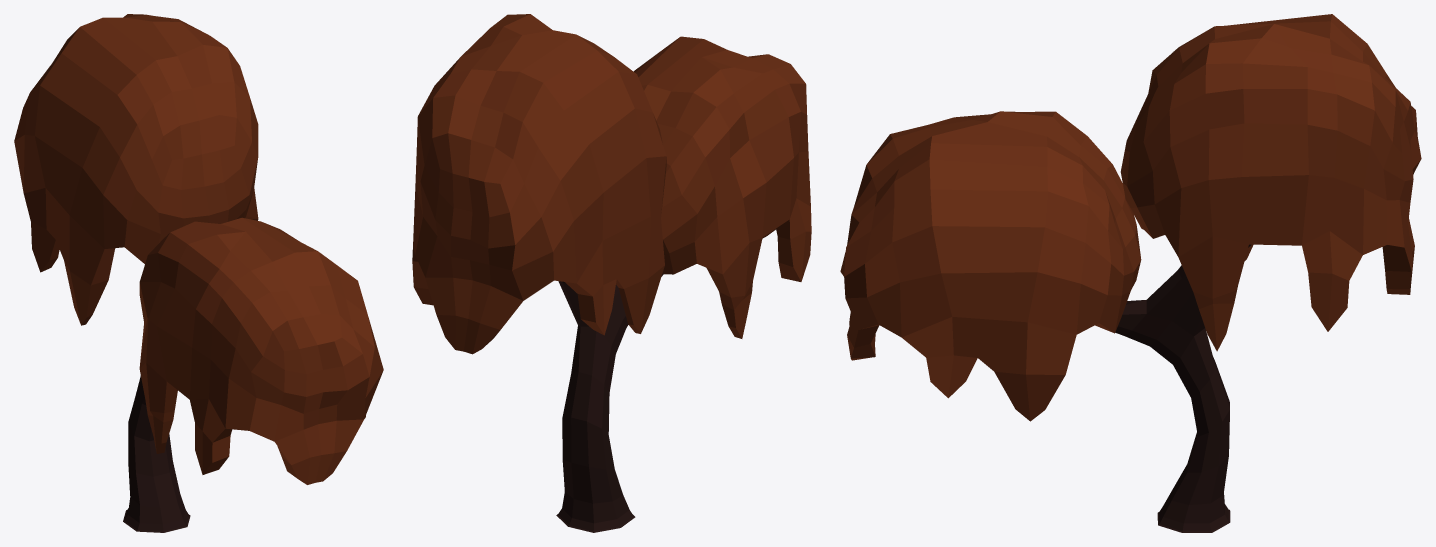
Rendered from Willow_Autumn_5.obj.
3 views of the same model, side by side, from view 1: azimuth 30°, elevation 25°; view 2: azimuth 150°, elevation 25°; view 3: azimuth 270°, elevation 25° (orthographic). The views are drawn at different scales.
Parts seen in each view (by area): view 1: Willow_Autumn_5_Cube.084; view 2: Willow_Autumn_5_Cube.084; view 3: Willow_Autumn_5_Cube.084.
Boxes of the visible parts, bbox=[...] form: Willow_Autumn_5_Cube.084: bbox=[14, 14, 383, 532]; Willow_Autumn_5_Cube.084: bbox=[412, 14, 811, 532]; Willow_Autumn_5_Cube.084: bbox=[840, 14, 1421, 532].
Size of the model in its own units: 1.01 by 2.42 by 2.49.
